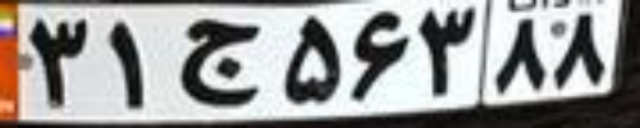1: (105, 20, 148, 109)
3: (26, 17, 84, 108), (418, 7, 475, 97)
5: (280, 15, 344, 104)
6: (350, 10, 408, 104)
8: (490, 17, 546, 93), (552, 14, 604, 88)
jim: (178, 19, 263, 107)
